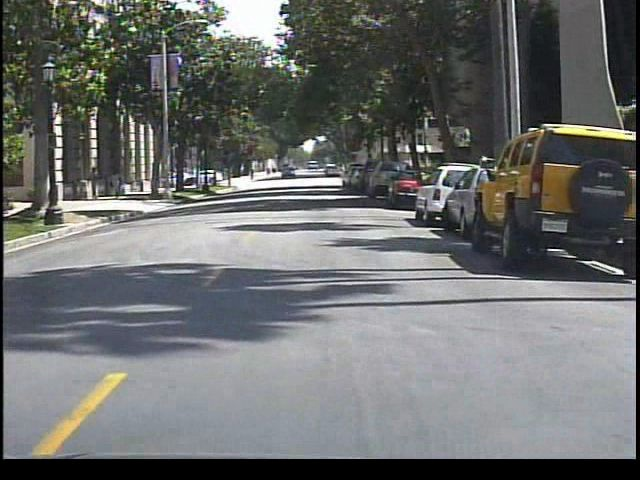person: (108, 166, 131, 202), (87, 165, 107, 205), (338, 162, 352, 186)
